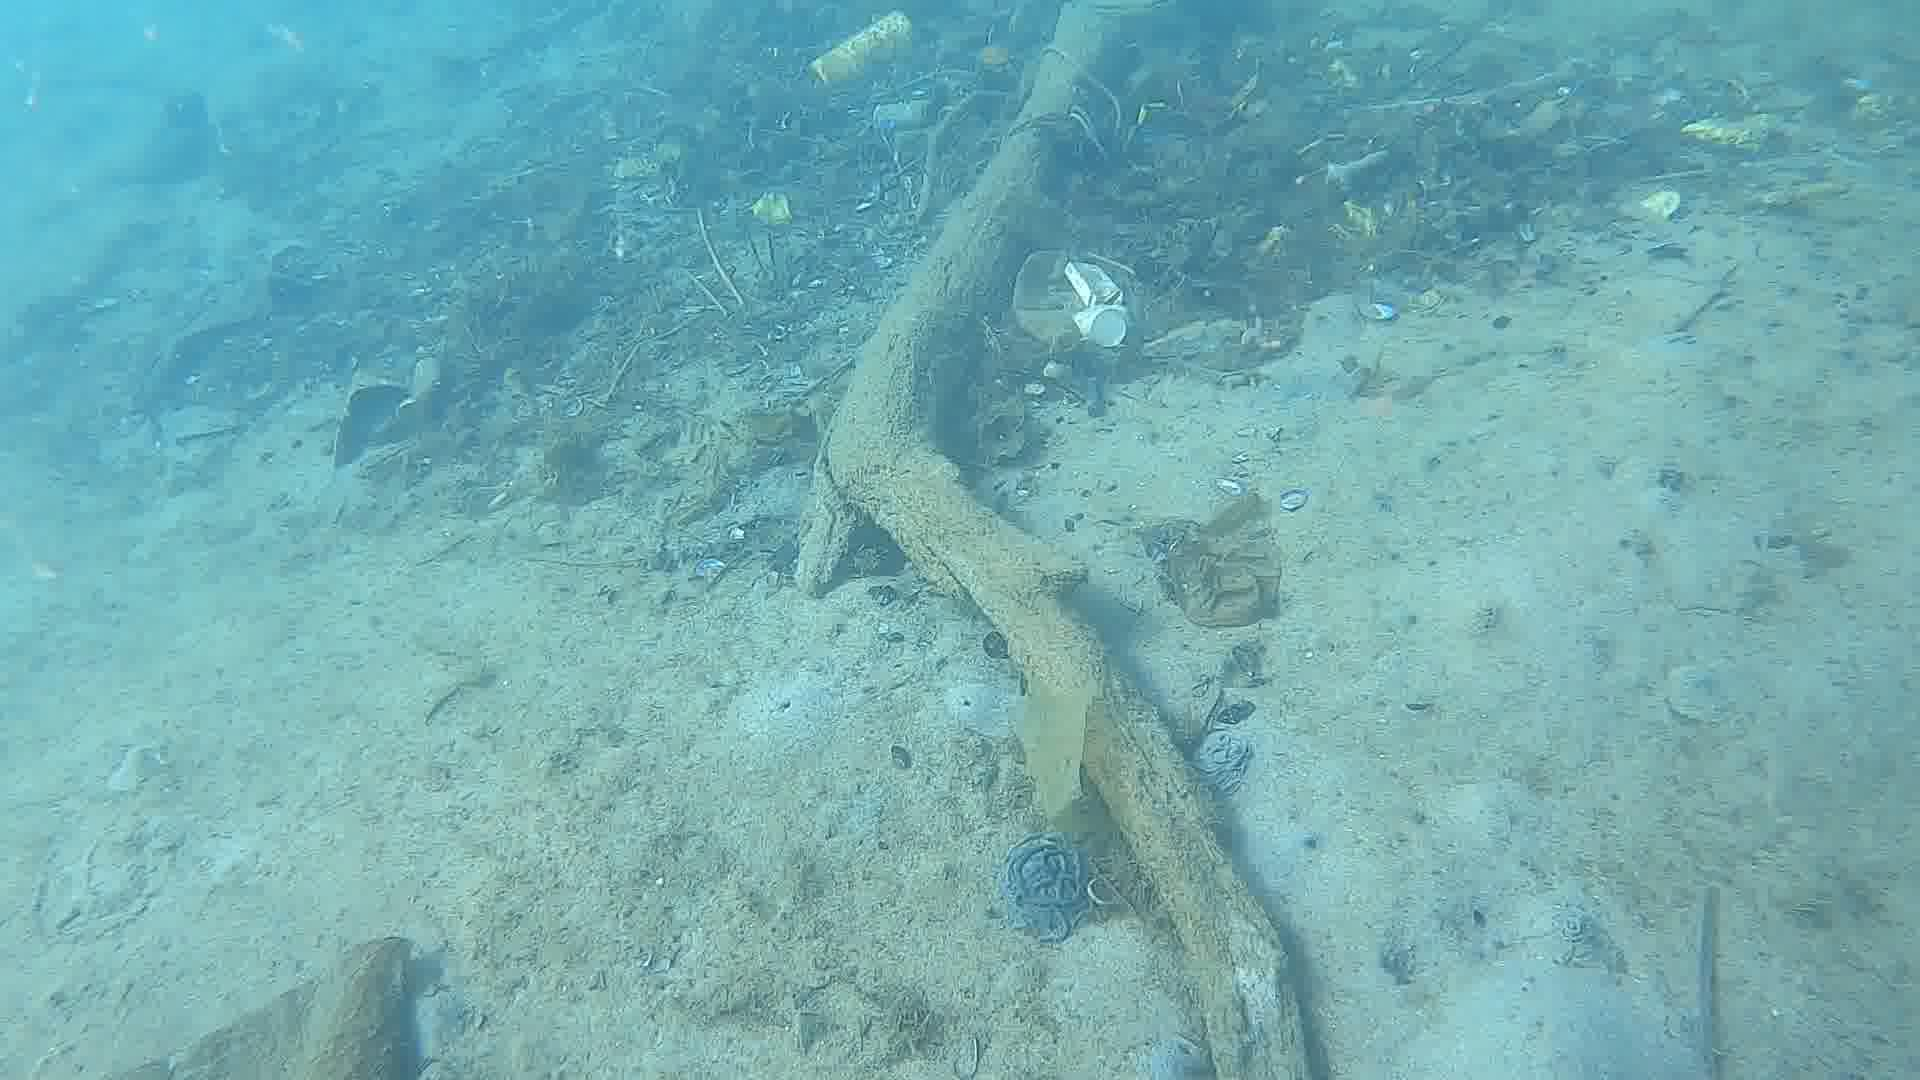wood: (790, 0, 1311, 1080)
